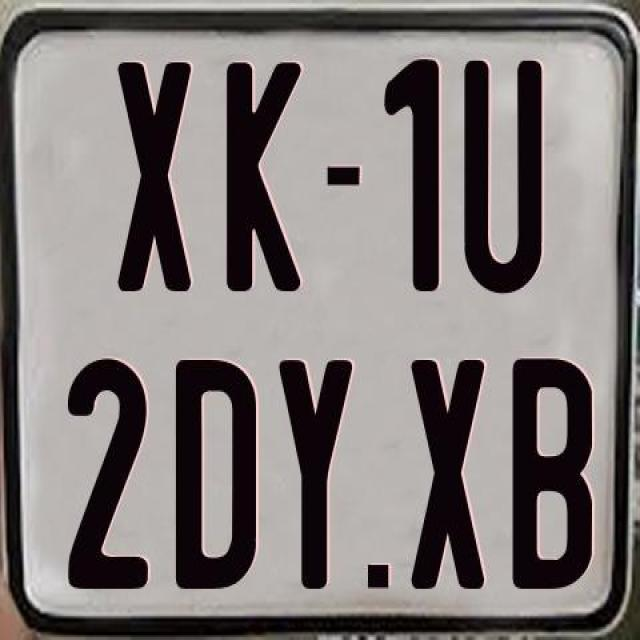1: (384, 54, 442, 290)
2: (68, 355, 156, 592)
B: (512, 353, 599, 584)
D: (174, 360, 258, 592)
K: (222, 61, 298, 293)
U: (464, 56, 550, 293)
X: (410, 356, 490, 588), (114, 61, 190, 290)
Y: (276, 358, 351, 592)
